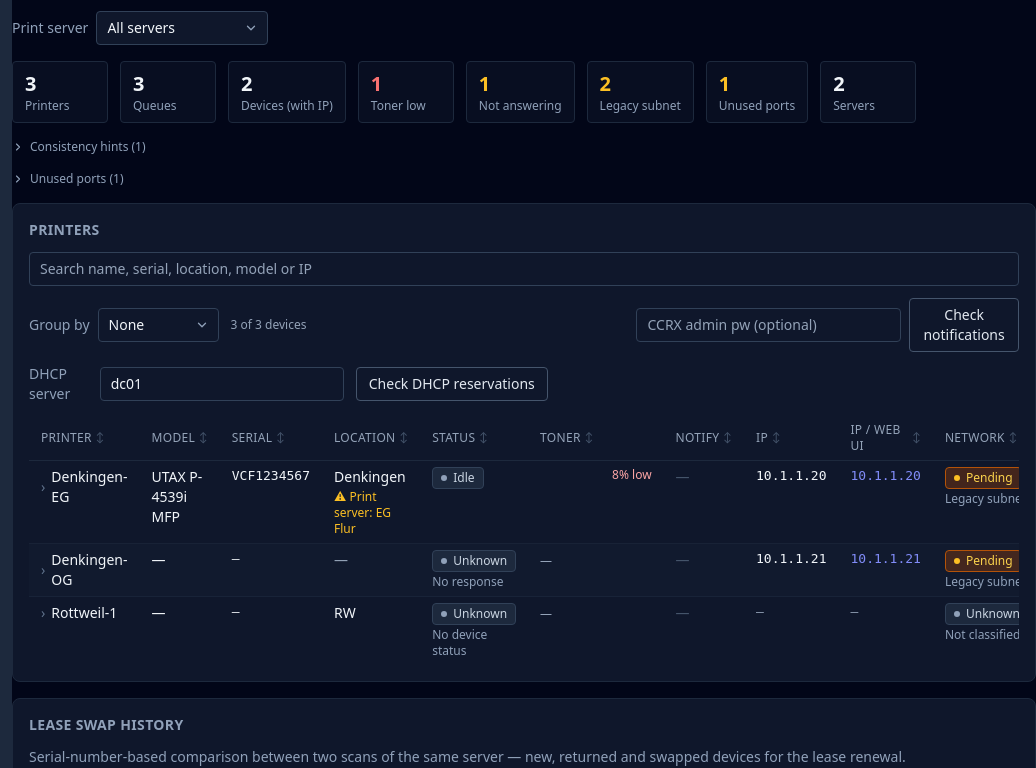
PrintManagementPage › classifies the subnet and checks DHCP reservations on demand
(page scrolled)
Expected: the text "Denkingen-EG" is shown, x1=51 y1=467 x2=128 y2=507
Expected: the text "Pending" is shown, x1=945 y1=467 x2=1019 y2=489
Click the button "Check DHCP reservations" at [452, 384], box x1=356 y1=367 x2=548 y2=401
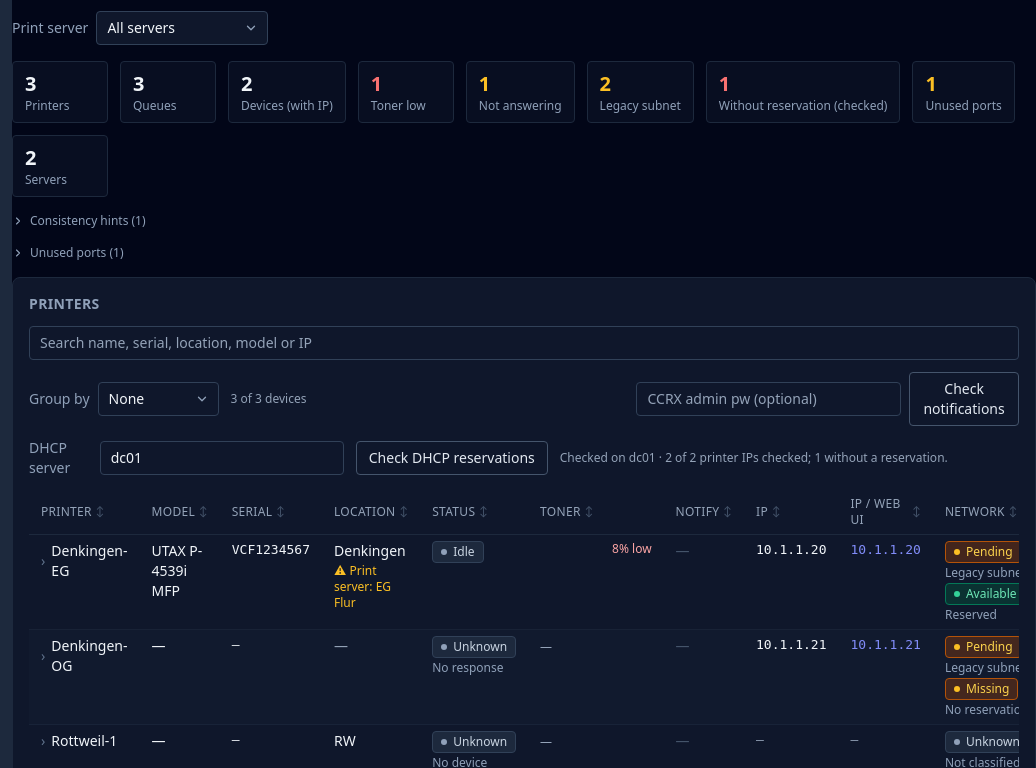
Expected: the text "Available" is shown, x1=945 y1=583 x2=1019 y2=605
Expected: the text "Reserved" is shown, x1=945 y1=607 x2=997 y2=623
Expected: the text "Missing" is shown, x1=945 y1=678 x2=1018 y2=700
